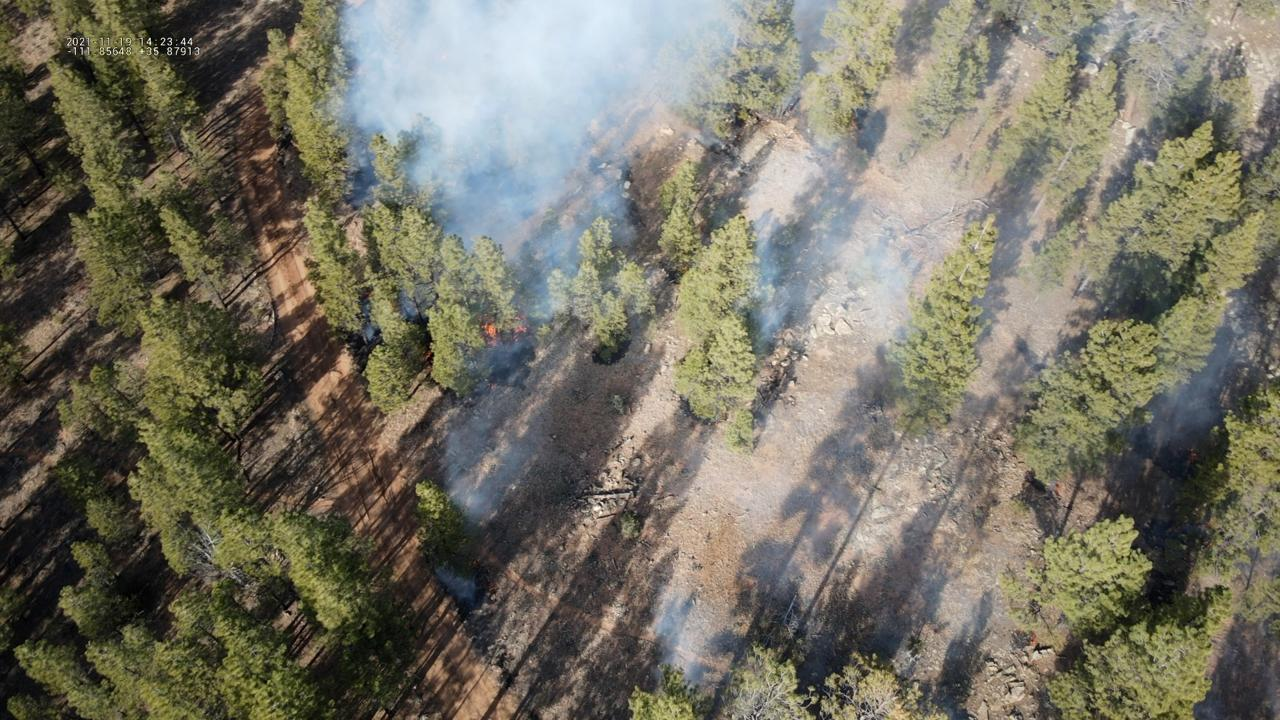fire: (478, 315, 499, 351), (510, 315, 528, 344), (421, 349, 434, 362), (1189, 447, 1197, 457)
smoke: (316, 0, 915, 530), (1142, 290, 1280, 463), (652, 589, 705, 702), (430, 565, 479, 609)
